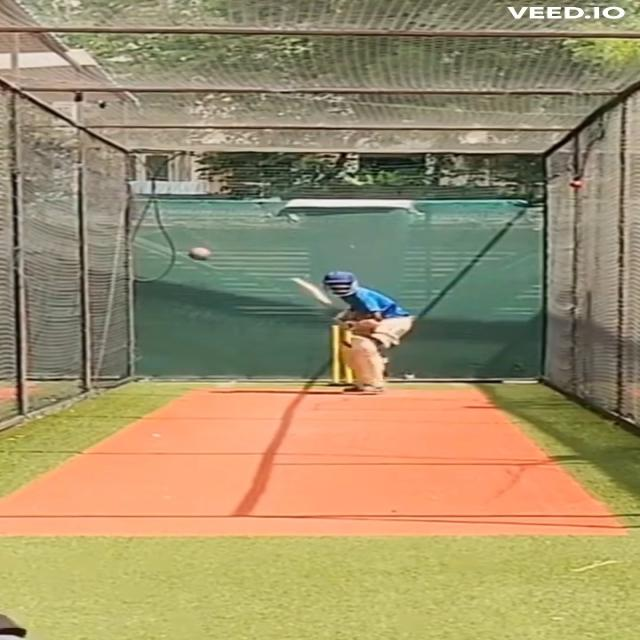ball: (186, 245, 214, 262)
stump: (328, 323, 355, 387)
